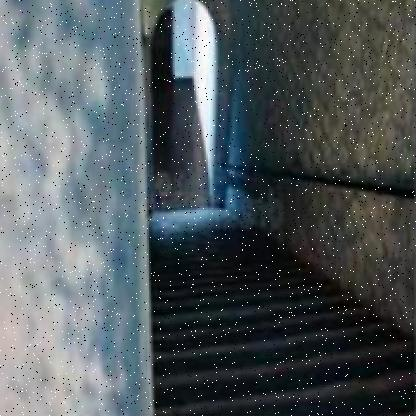stair_down: (148, 302, 402, 413)
